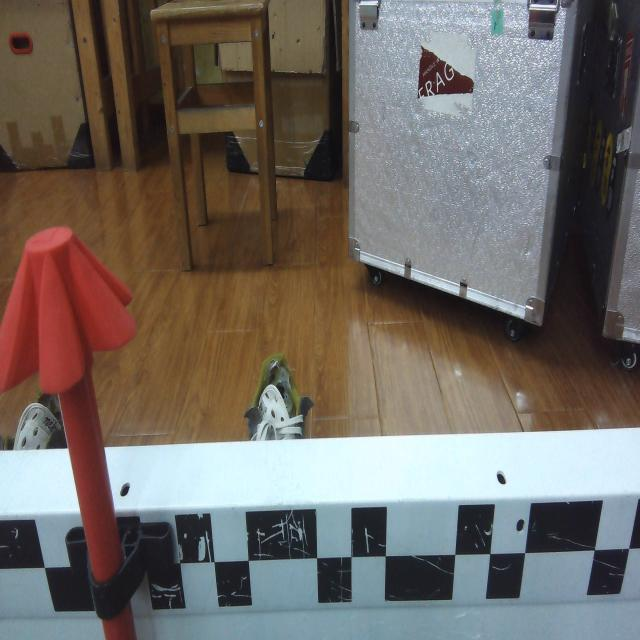zred-Stake-Head: (0, 226, 136, 395)
